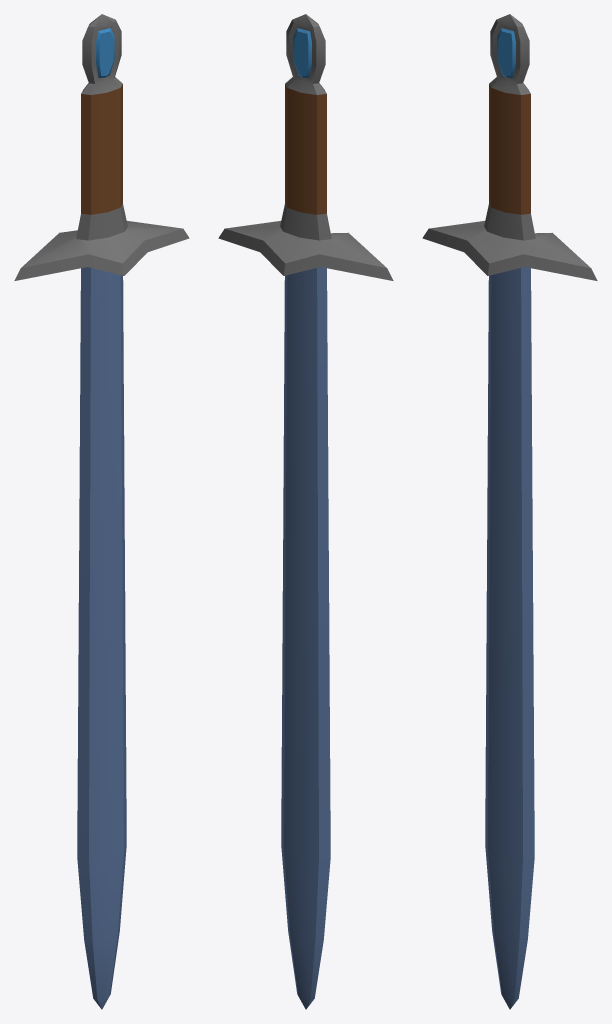
The model's file is Simpel sword model.fbx.
3 views of the same model, side by side, from view 1: azimuth 30°, elevation 25°; view 2: azimuth 150°, elevation 25°; view 3: azimuth 330°, elevation 25° (orthographic).
Parts seen in each view (by area): view 1: Better sword; view 2: Better sword; view 3: Better sword.
Part boxes in pixels (box(x1,y1,x2,y2)): Better sword: box(14, 14, 189, 1009); Better sword: box(218, 14, 393, 1009); Better sword: box(422, 14, 597, 1009).
Size of the model in its own units: 0.1774 by 0.9622 by 0.0782.
